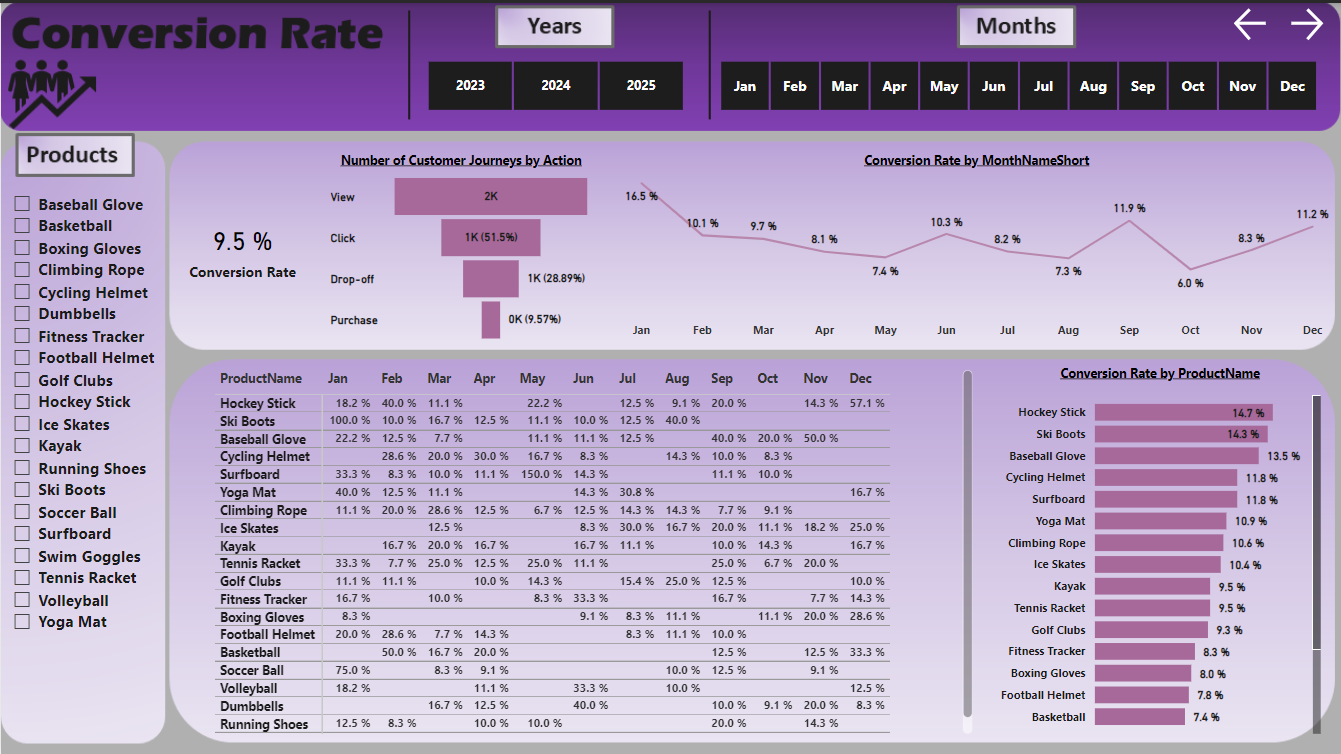

What the dashboard file says about the page in this screenshot:
{"tool":"powerbi","page":{"name":"Conversion Details","canvas":[1280,720],"ordinal":1},"visuals":[{"type":"slicer","fields":{"Values":["dim_products.ProductName"]},"box":[0,174,159.4,546.5],"z":0},{"type":"card","fields":{"Values":["_Calculations.Conversion Rate"]},"box":[169,142.5,122.6,187.2],"z":1000},{"type":"lineChart","fields":{"Y":["_Calculations.Conversion Rate"],"Category":["Calendar.MonthNameShort"]},"box":[583.1,142.5,697.4,187.2],"z":2000},{"type":"clusteredBarChart","fields":{"Category":["dim_products.ProductName"],"Y":["_Calculations.Conversion Rate"]},"box":[948.3,344.8,317.2,357.8],"z":3000},{"type":"slicer","fields":{"Values":["Calendar.Year"]},"box":[382.2,48.8,292.8,60.2],"z":4000},{"type":"slicer","fields":{"Values":["Calendar.MonthNameShort"]},"box":[662,48.8,618.1,60.2],"z":5000},{"type":"pivotTable","fields":{"Rows":["dim_products.ProductName"],"Values":["_Calculations.Conversion Rate"],"Columns":["Calendar.MonthNameShort"]},"box":[198.4,344.8,733.6,357.8],"z":6000},{"type":"funnel","fields":{"Category":["fact_customer_journey.Action"],"Y":["_Calculations.Number of Customer Journeys"]},"box":[309.8,142.5,260.1,187.2],"z":7000},{"type":"actionButton","box":[1226.4,0,53.7,40.7],"z":8000},{"type":"actionButton","box":[1172.7,0,53.7,40.7],"z":9000}]}

Visuals, with their boxes in screenshot pixels (x1, y1, x2, y2), scaled from the page's 1280x720 canvas onto the 1341x754 screenshot:
slicer - dim_products.ProductName: crop(0, 182, 167, 753)
card - _Calculations.Conversion Rate: crop(177, 149, 305, 345)
lineChart - _Calculations.Conversion Rate x Calendar.MonthNameShort: crop(611, 149, 1340, 345)
clusteredBarChart - dim_products.ProductName x _Calculations.Conversion Rate: crop(993, 361, 1326, 736)
slicer - Calendar.Year: crop(400, 51, 707, 114)
slicer - Calendar.MonthNameShort: crop(694, 51, 1340, 114)
pivotTable - dim_products.ProductName x _Calculations.Conversion Rate: crop(208, 361, 976, 736)
funnel - fact_customer_journey.Action x _Calculations.Number of Customer Journeys: crop(325, 149, 597, 345)
actionButton: crop(1285, 0, 1340, 43)
actionButton: crop(1229, 0, 1285, 43)
